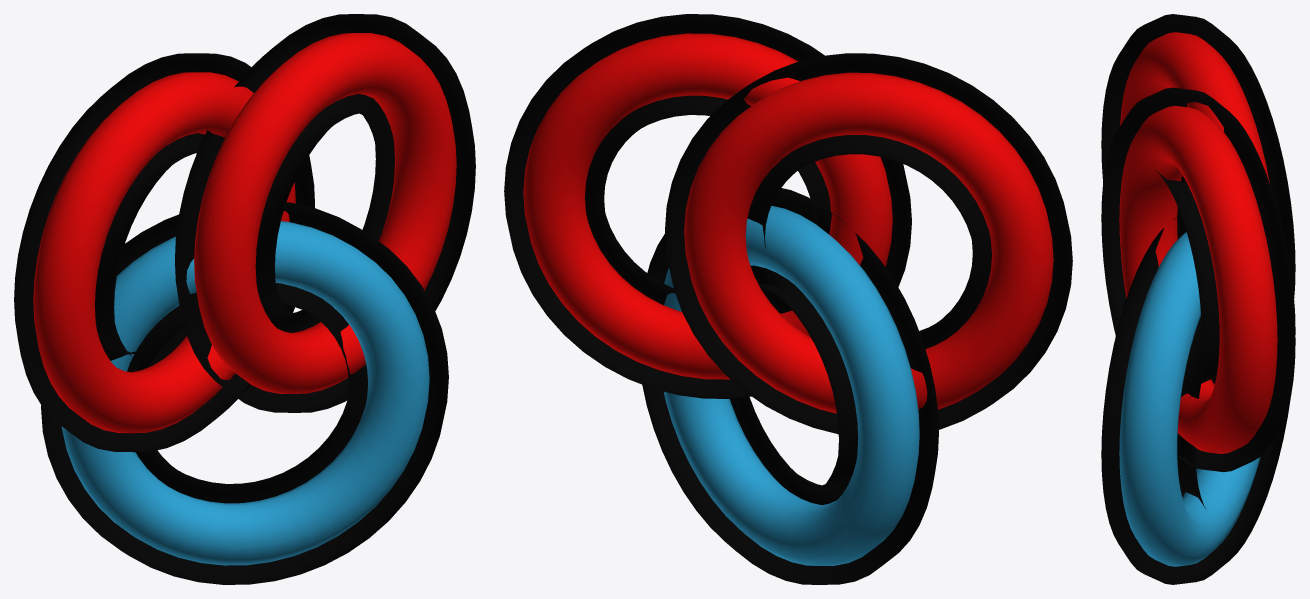
File: charmed_step_02.glb
The picture shows the model from 3 angles, left to right: view 1: azimuth 30°, elevation 25°; view 2: azimuth 150°, elevation 25°; view 3: azimuth 270°, elevation 25°; orthographic projection. The views are drawn at different scales.
Parts seen in each view (by area): view 1: Torus.1267, Torus.1266, Torus.1265; view 2: Torus.1265, Torus.1266, Torus.1267; view 3: Torus.1266, Torus.1267, Torus.1265.
Part boxes in pixels (left/top/right/bottom): Torus.1267: left=41, top=202, right=448, bottom=584; Torus.1266: left=175, top=14, right=475, bottom=412; Torus.1265: left=14, top=53, right=314, bottom=452; Torus.1265: left=665, top=53, right=1072, bottom=434; Torus.1266: left=504, top=14, right=911, bottom=398; Torus.1267: left=642, top=188, right=938, bottom=584; Torus.1266: left=1101, top=87, right=1295, bottom=472; Torus.1267: left=1101, top=214, right=1295, bottom=584; Torus.1265: left=1101, top=14, right=1295, bottom=302.
Bounding box in the file's own units: 2.97 × 3.02 × 1.06.
